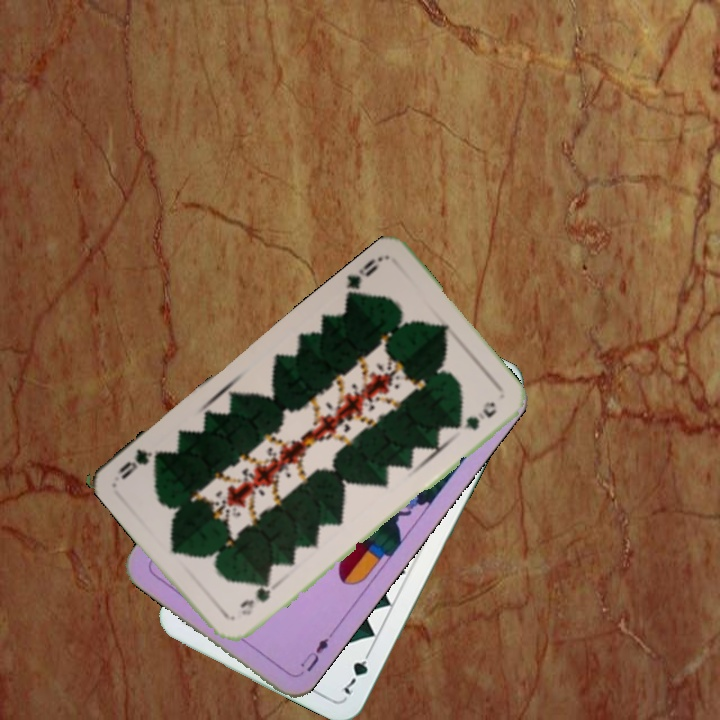EU: (296, 628, 337, 675)
G7: (339, 644, 375, 698)
G9: (341, 252, 386, 301), (235, 576, 274, 619)
